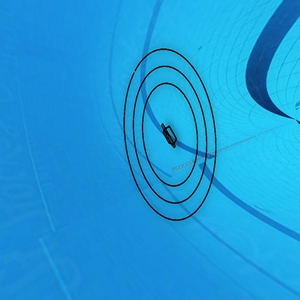circle: (124, 47, 218, 220)
submarine: (160, 122, 179, 149)
